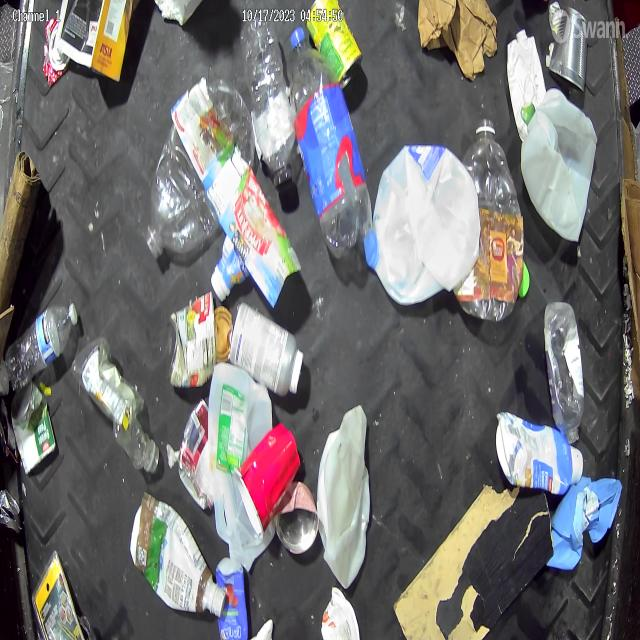can: (167, 291, 217, 386), (545, 4, 589, 96)
milk_jug: (365, 140, 484, 302), (208, 362, 278, 573), (520, 87, 598, 242), (316, 407, 369, 587)
plastic_bottle: (147, 73, 255, 256), (291, 25, 372, 258), (462, 124, 526, 318), (242, 16, 301, 190), (1, 304, 80, 390), (542, 299, 586, 442)
